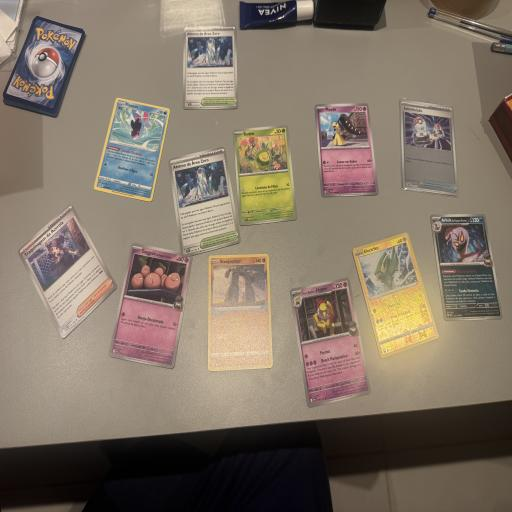card: (9, 202, 128, 341), (351, 231, 441, 359), (285, 277, 372, 408), (109, 242, 197, 370), (430, 207, 503, 327), (168, 146, 242, 259), (94, 96, 172, 202), (204, 253, 273, 371), (231, 125, 298, 226), (315, 100, 379, 200), (400, 98, 458, 198), (180, 25, 239, 111)
